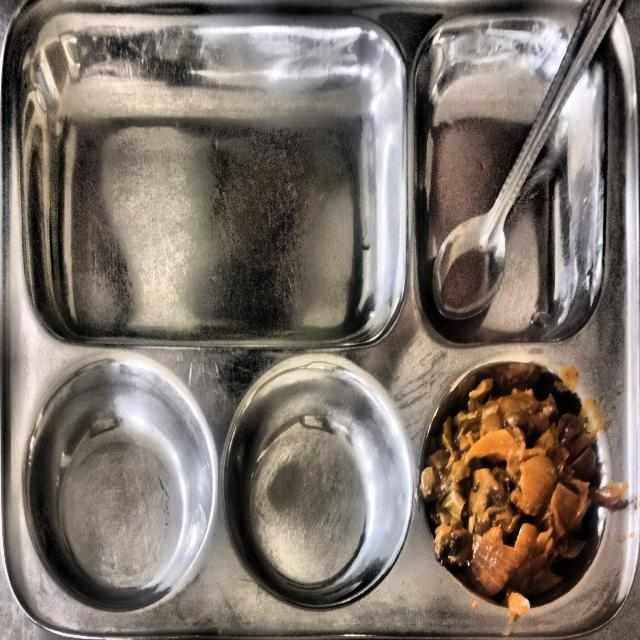Daal-pulse: (430, 381, 588, 566)
